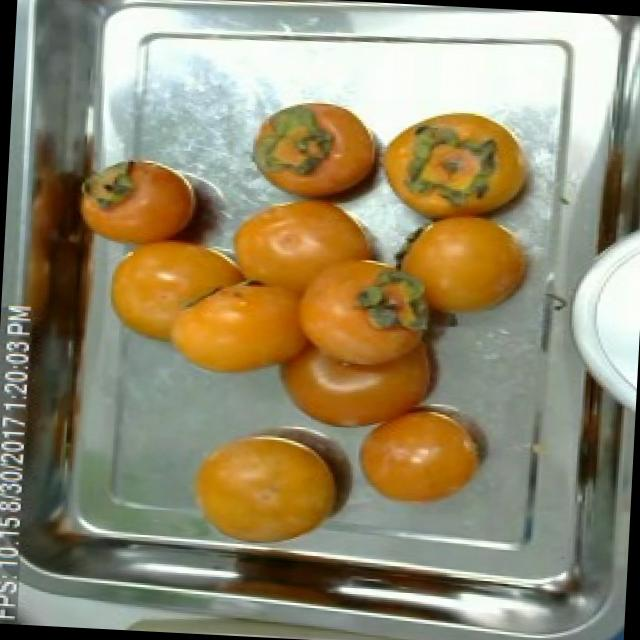Fruit: (254, 284, 468, 448), (376, 195, 552, 354), (209, 190, 411, 312), (368, 98, 550, 230), (177, 419, 357, 552), (93, 225, 255, 356), (340, 390, 500, 520), (65, 148, 242, 262), (235, 90, 396, 212)
